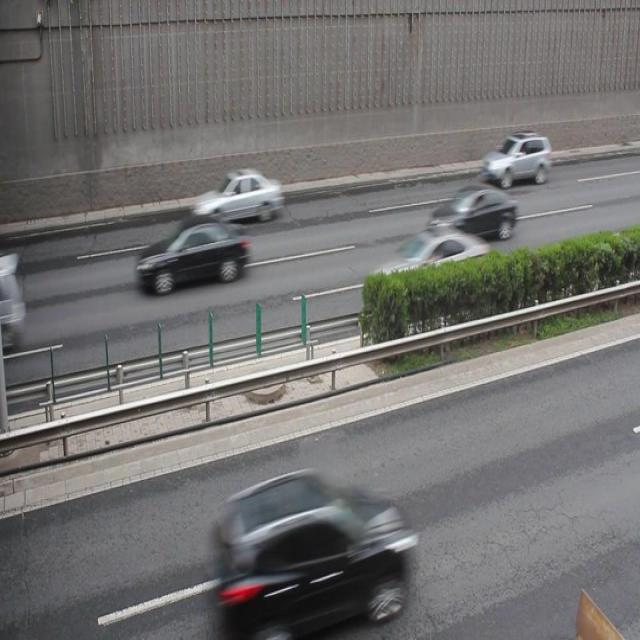car: (209, 474, 411, 640), (138, 221, 249, 292), (374, 228, 487, 296), (430, 183, 515, 238), (193, 169, 281, 222), (484, 133, 548, 186)
